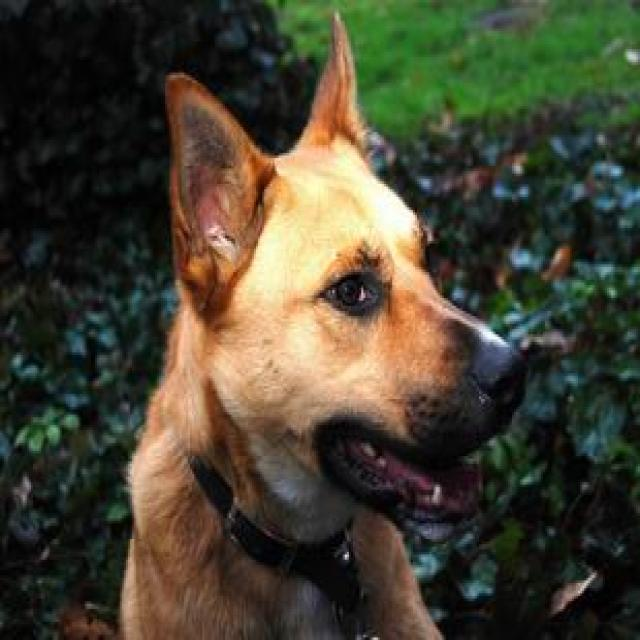Dogs: (110, 8, 532, 637)
